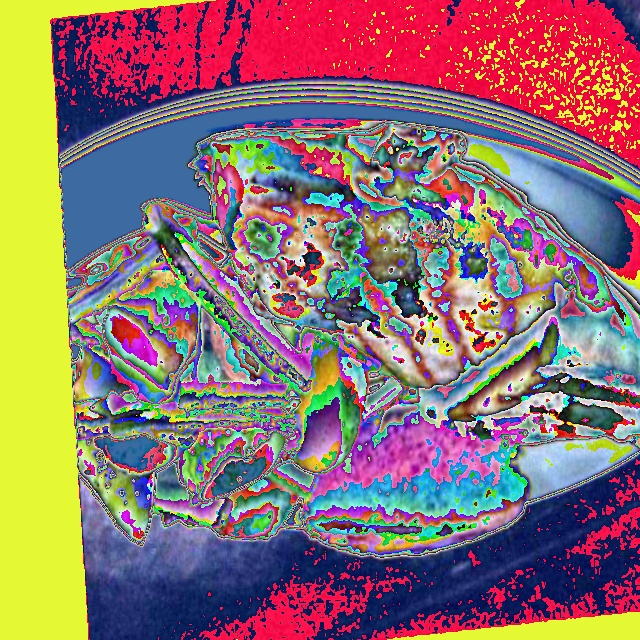background: (69, 124, 639, 559)
